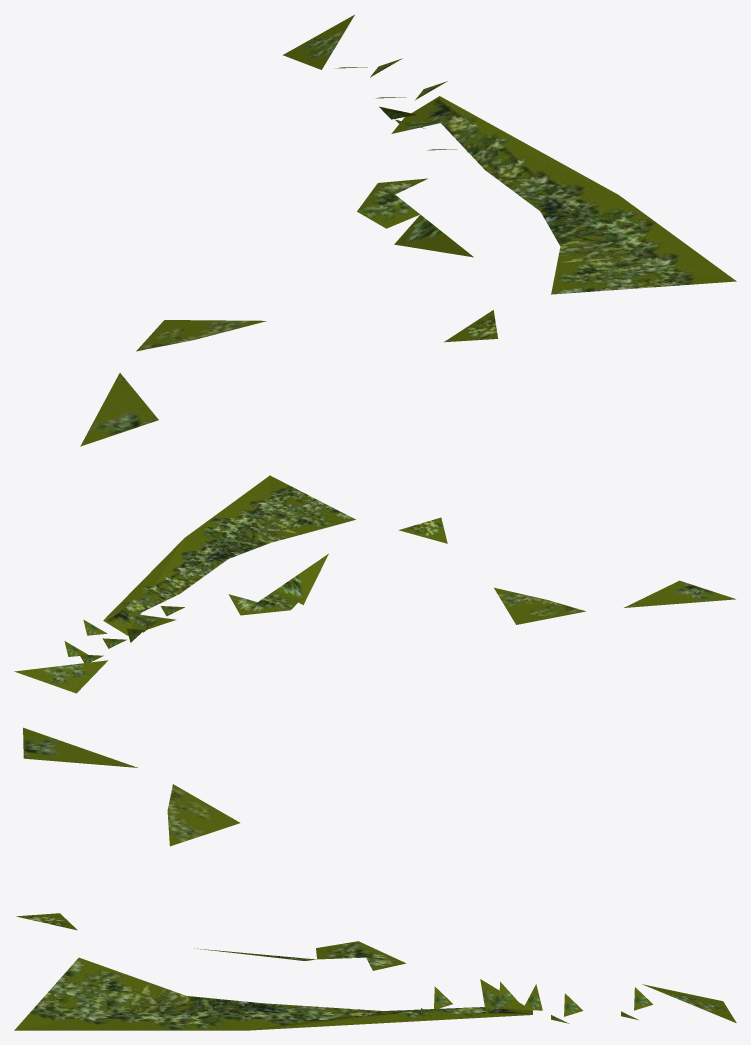
Rendered from prop_ivy_corner_2.glb.
3 renders of one model, top to bottom at view 1: azimuth 30°, elevation 25°; view 2: azimuth 150°, elevation 25°; view 3: azimuth 270°, elevation 25°, orthographic. The views are drawn at different scales.
Bounding box in the file's own units: 245 × 10.15 × 240.
1 material, 1 textured.
